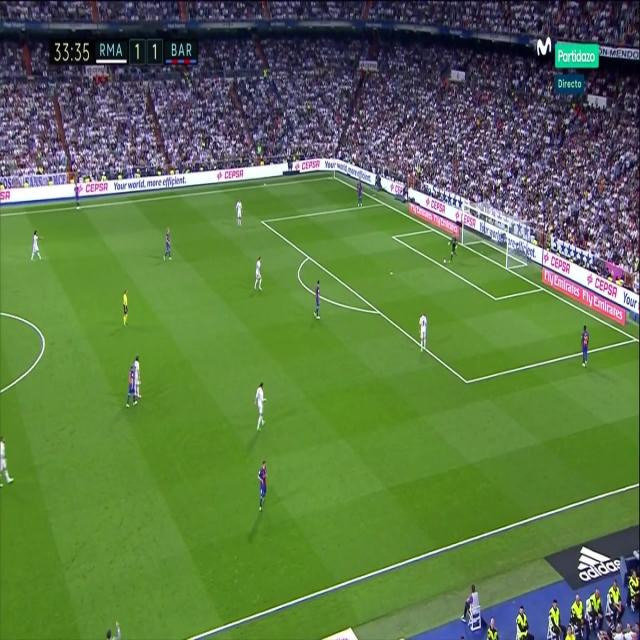Ball: (442, 257, 447, 267)
Goalkeeper: (447, 231, 459, 268)
Player: (252, 379, 270, 434), (0, 432, 15, 490), (256, 459, 270, 514), (123, 364, 136, 409), (580, 323, 590, 371), (29, 231, 43, 265), (252, 253, 263, 295), (418, 310, 428, 356), (164, 226, 174, 264), (235, 195, 245, 232), (313, 281, 321, 323), (134, 356, 141, 402), (354, 179, 363, 213)
Referee: (122, 286, 130, 330)
